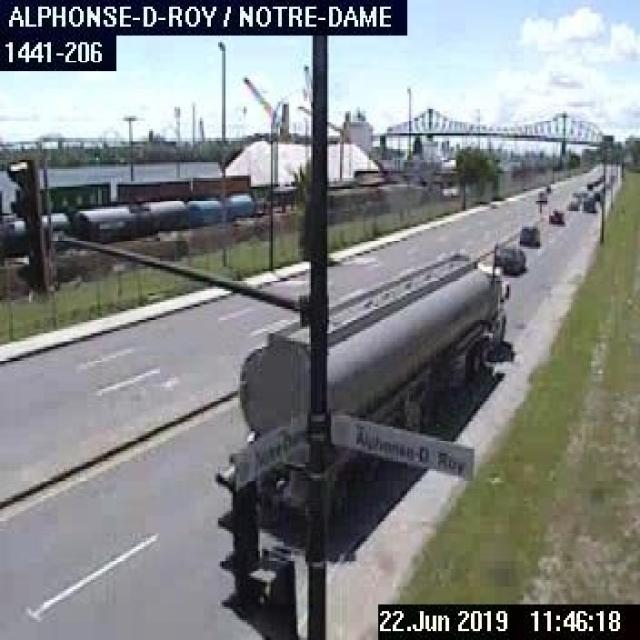vehicle: (226, 242, 514, 524), (487, 238, 527, 276), (516, 221, 544, 248), (564, 194, 582, 210), (547, 209, 564, 225), (534, 189, 546, 202)
